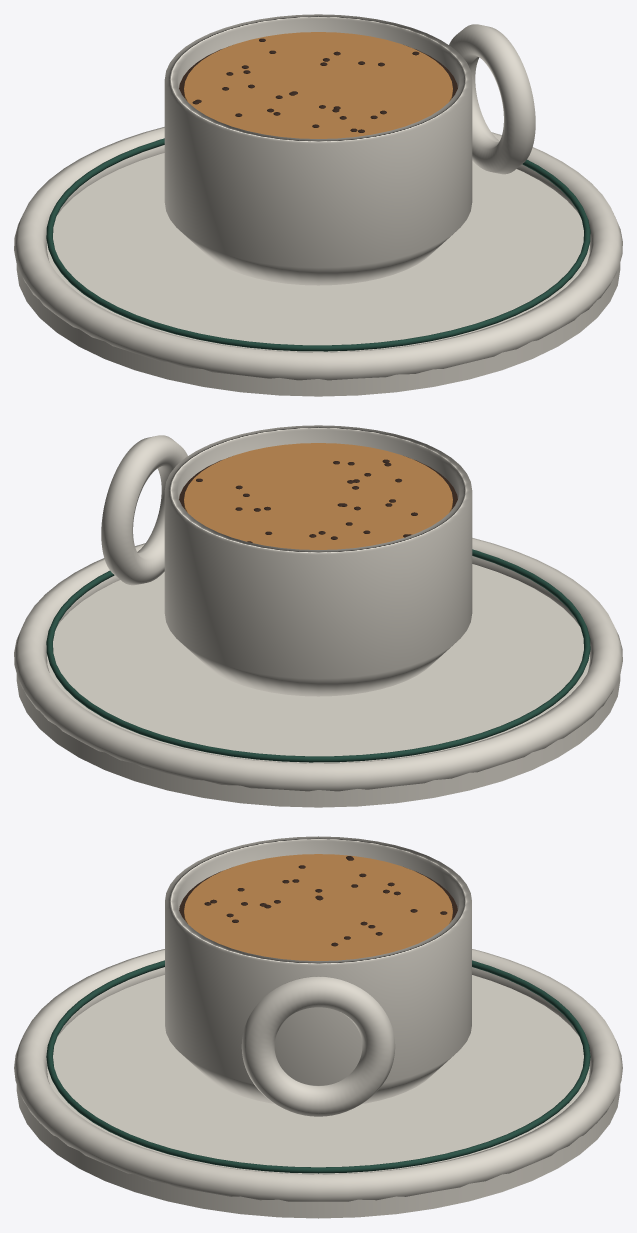
File: coffee-regular.glb
The picture shows the model from 3 angles, top to bottom: view 1: azimuth 30°, elevation 25°; view 2: azimuth 150°, elevation 25°; view 3: azimuth 270°, elevation 25°; orthographic projection.
Visible parts, largest first — view 1: Morsel original coffee regular; view 2: Morsel original coffee regular; view 3: Morsel original coffee regular.
Boxes of the visible parts, <box> form: Morsel original coffee regular: <box>14,14,622,396</box>; Morsel original coffee regular: <box>14,425,622,807</box>; Morsel original coffee regular: <box>14,836,622,1218</box>.
Size of the model in its own units: 2.22 by 0.7945 by 2.22.
